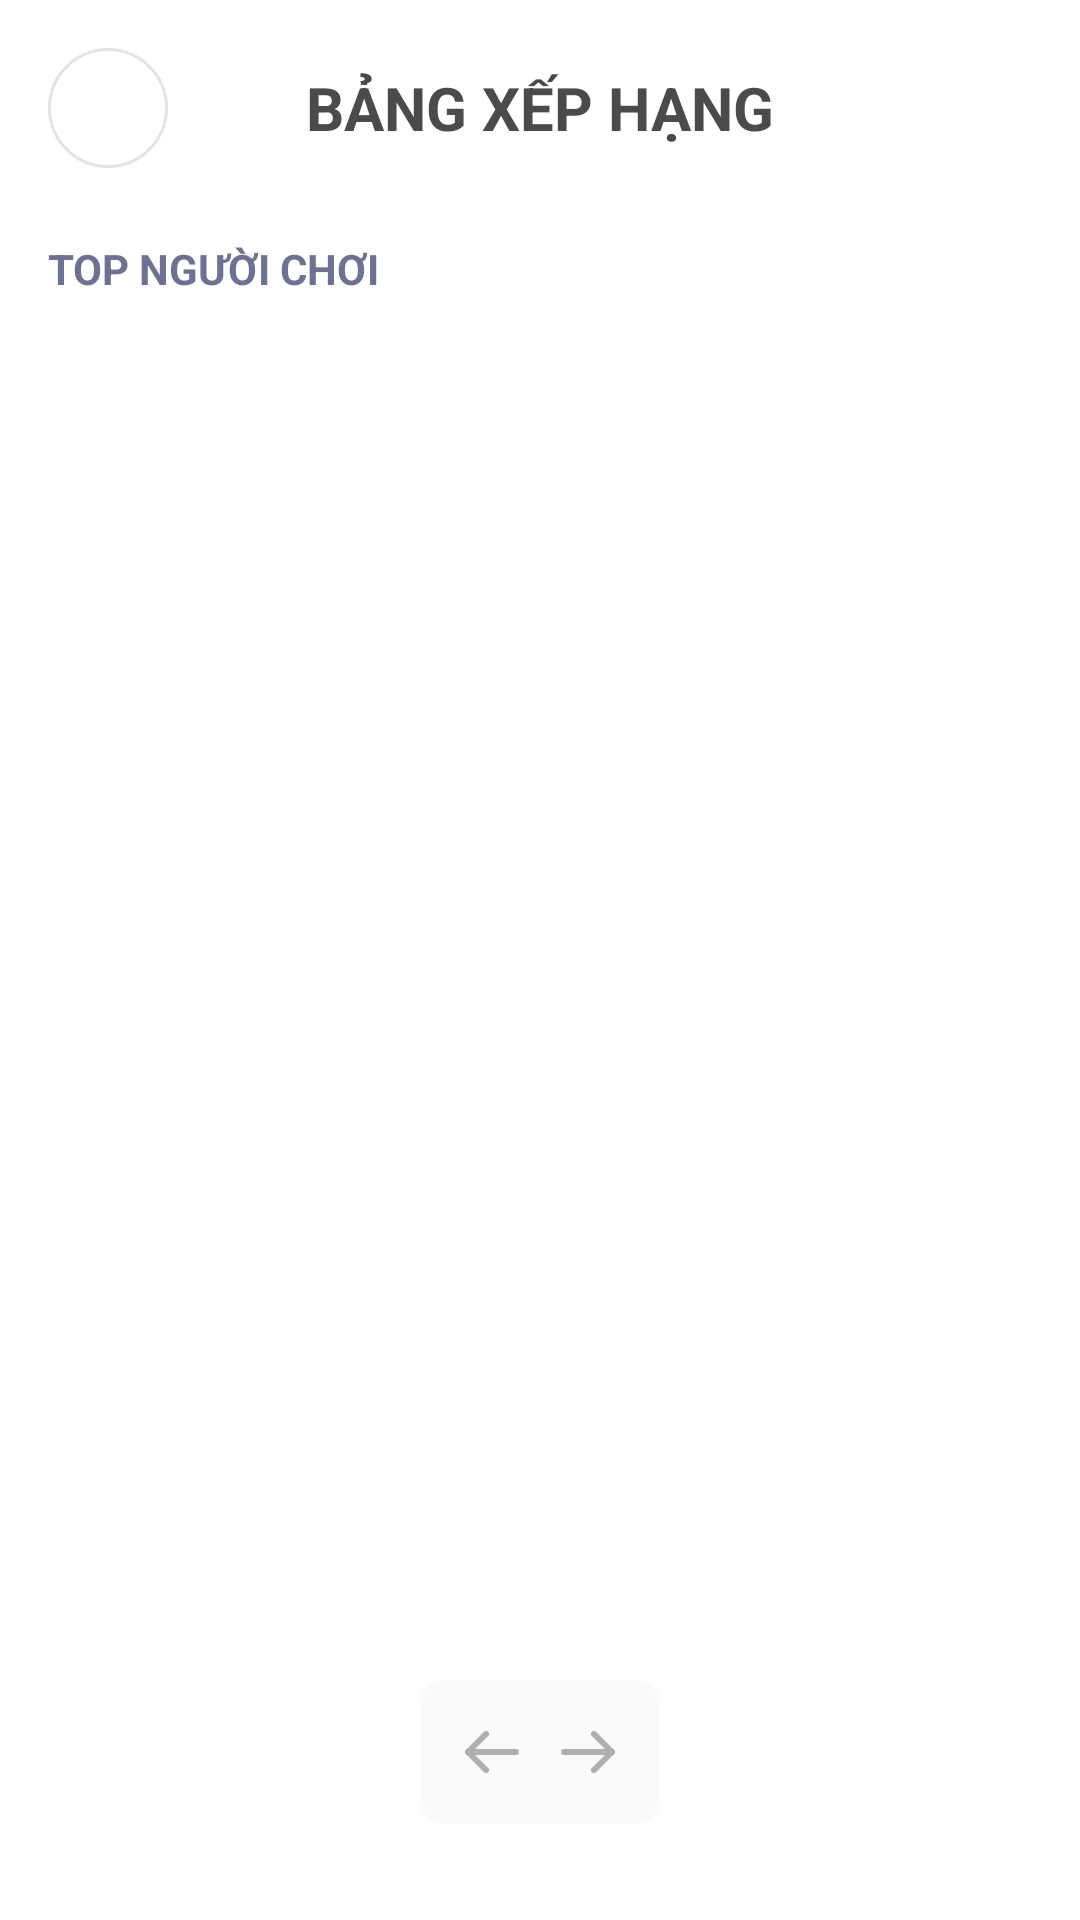

Named icons in this screenshot (1080*1920) and their bounding boxes, (x1, y1, x2, y2):
arrow left: (465, 1731, 519, 1773)
arrow right: (561, 1731, 615, 1773)
